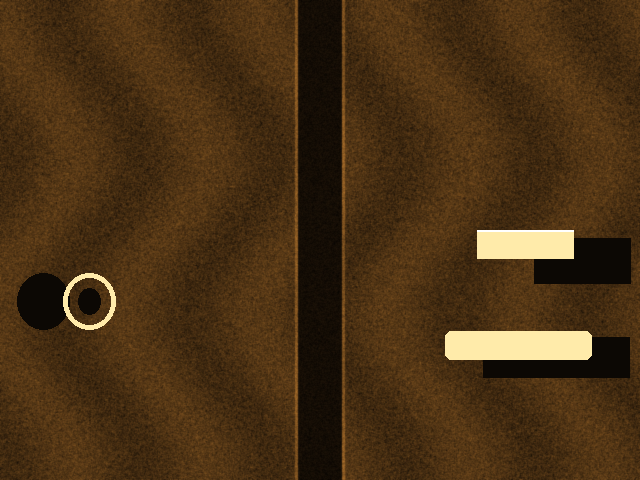Metal Debris: (477, 230, 573, 258)
Rubber Debris: (63, 273, 115, 329)
Wood Debris: (445, 331, 591, 359)
